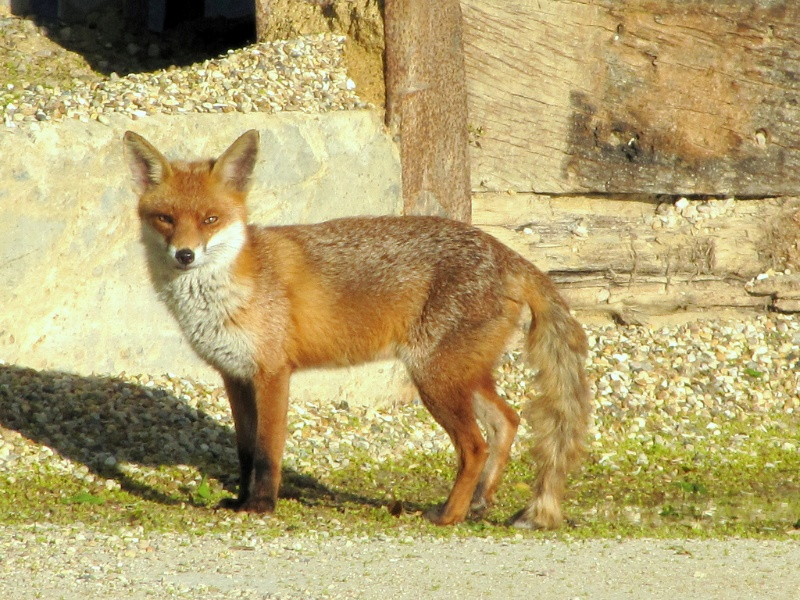fox: (120, 130, 601, 534)
